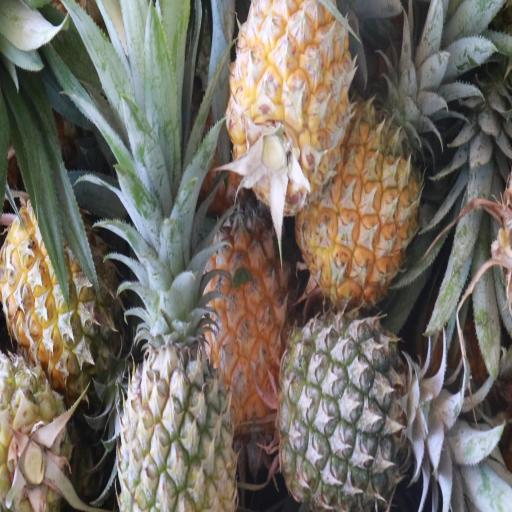------------------------------: (0, 200, 114, 387)
Pineapple - v8 v1: (225, 0, 349, 212), (298, 104, 419, 301), (201, 194, 289, 421)
